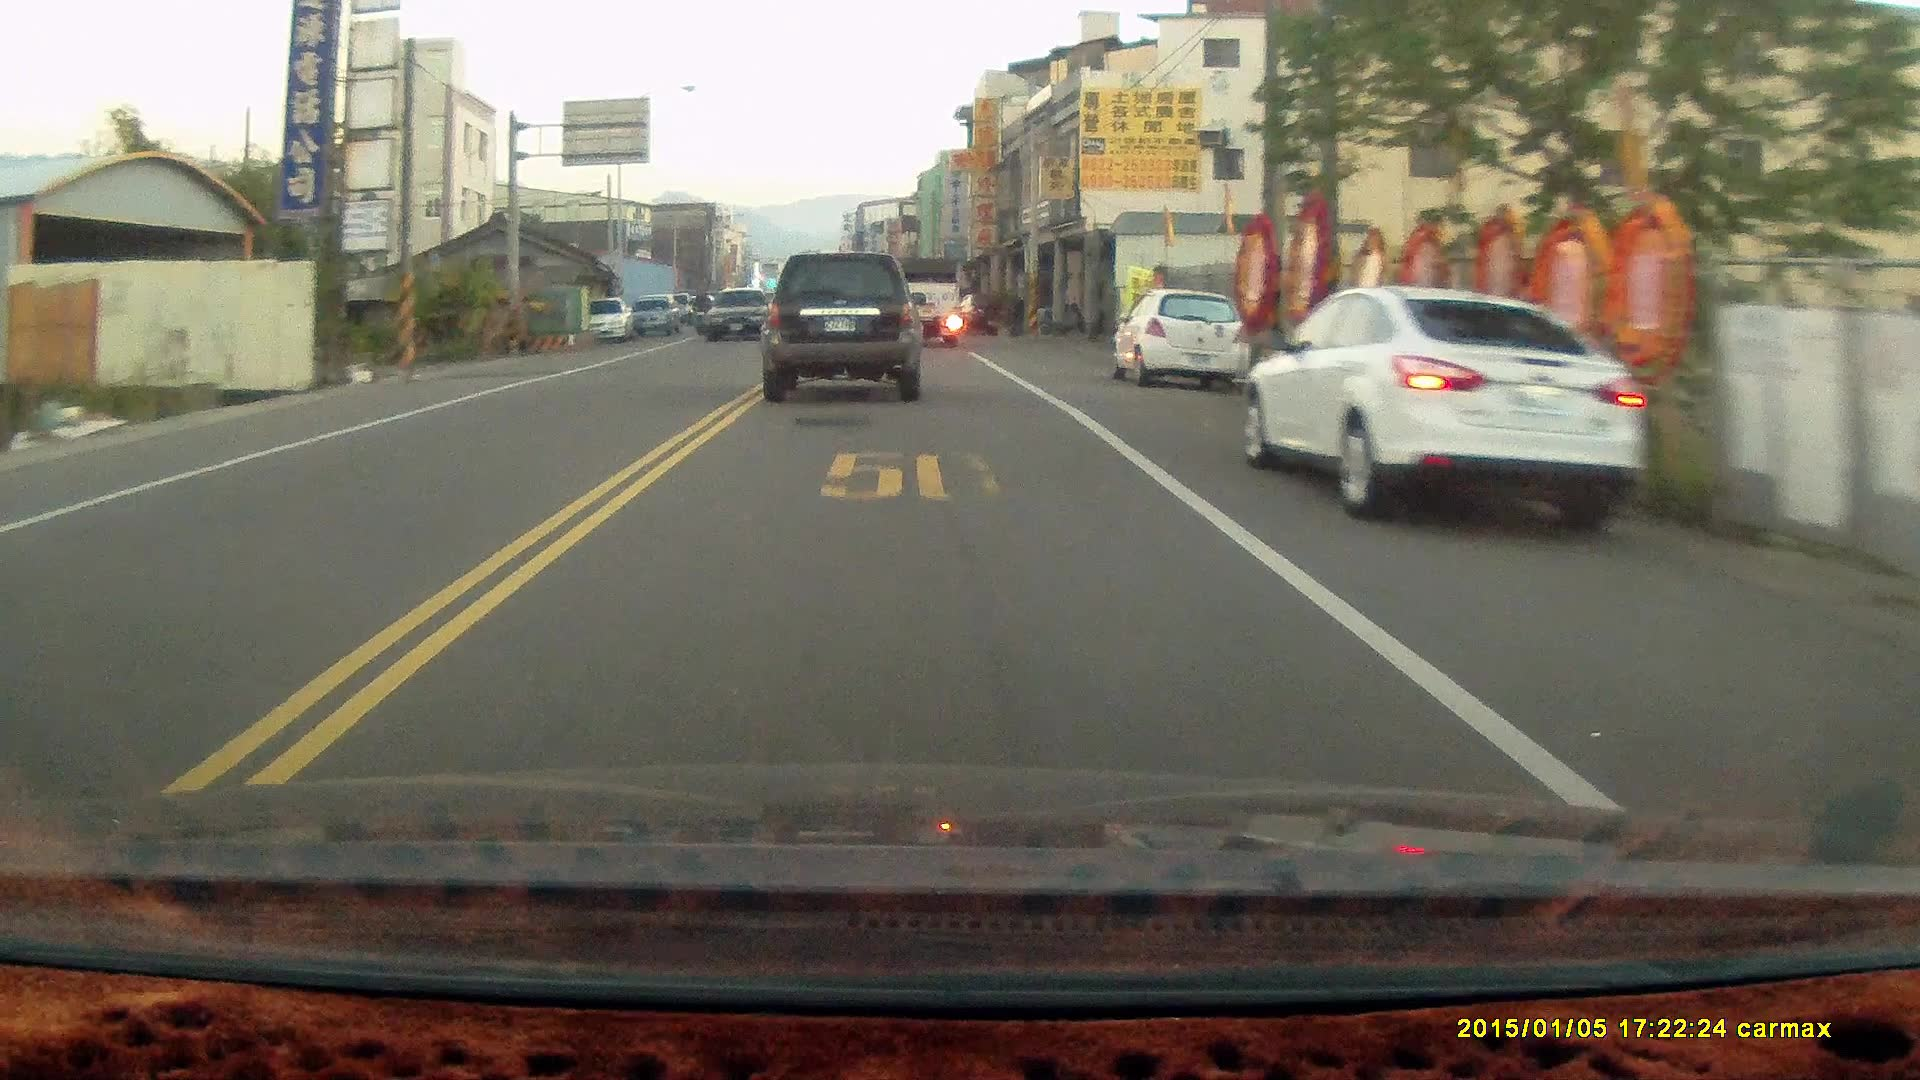vehicle: (1245, 284, 1651, 522), (758, 252, 923, 402), (1110, 287, 1255, 396), (887, 258, 965, 353), (705, 287, 775, 343)
